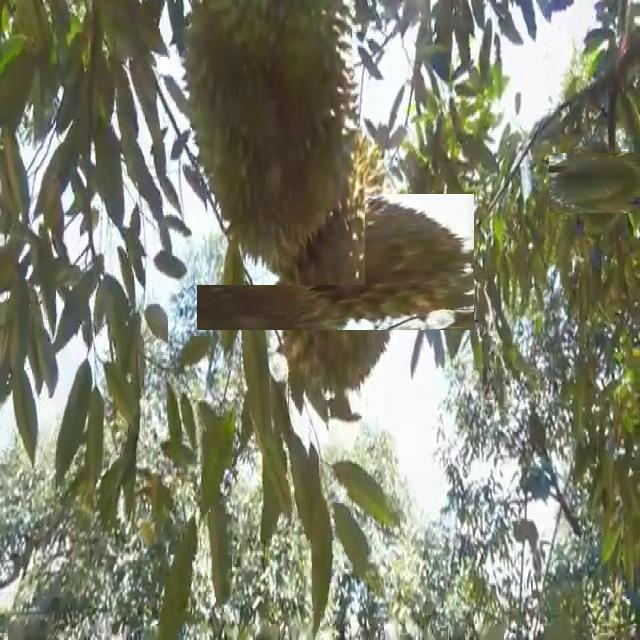durian: (175, 0, 365, 285), (233, 158, 439, 366), (558, 143, 638, 223)
